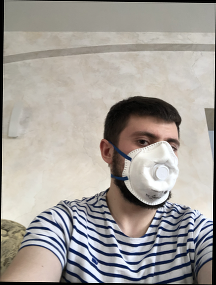with_mask: (115, 130, 180, 209)
